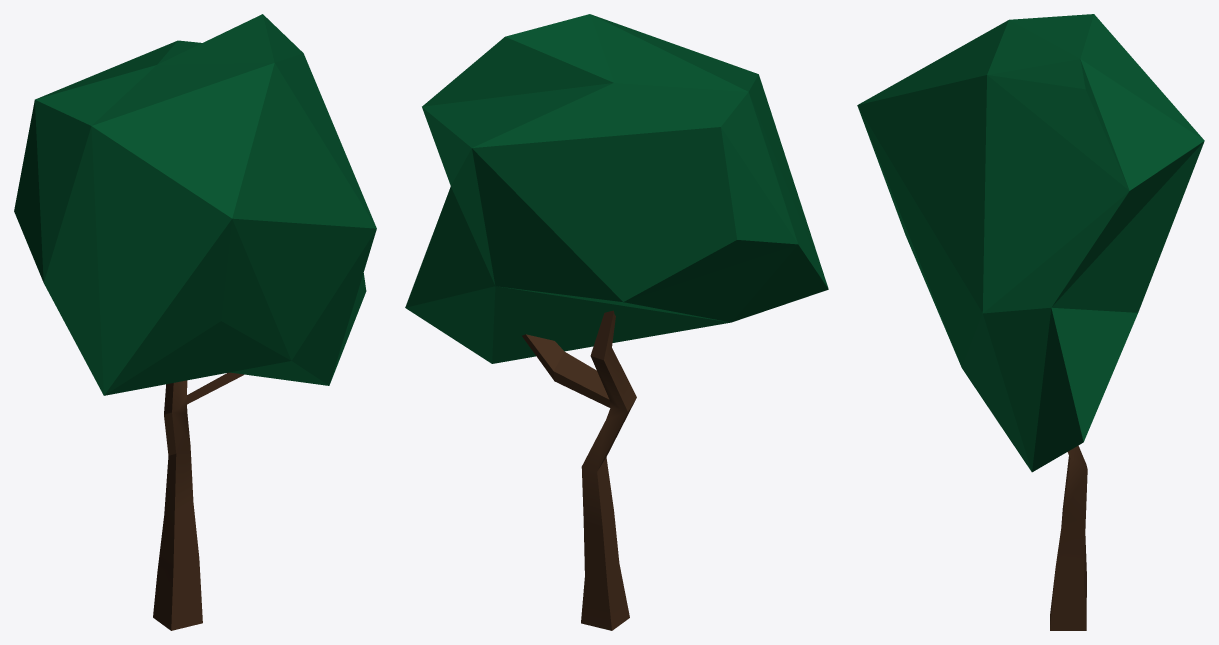
Rendered from Deci_Tree_01.fbx.
The picture shows the model from 3 angles, left to right: view 1: azimuth 30°, elevation 25°; view 2: azimuth 150°, elevation 25°; view 3: azimuth 270°, elevation 25°; orthographic projection. The views are drawn at different scales.
Parts seen in each view (by area): view 1: Tree1_Canopy, Tree1; view 2: Tree1_Canopy, Tree1; view 3: Tree1_Canopy, Tree1.
Part boxes in pixels (x1=…): Tree1_Canopy: x1=14, y1=14, x2=376, y2=395; Tree1: x1=153, y1=372, x2=243, y2=630; Tree1_Canopy: x1=405, y1=14, x2=828, y2=363; Tree1: x1=522, y1=310, x2=636, y2=630; Tree1_Canopy: x1=857, y1=14, x2=1204, y2=472; Tree1: x1=1050, y1=445, x2=1087, y2=630.
Bounding box in the file's own units: 135 × 205 × 112.
